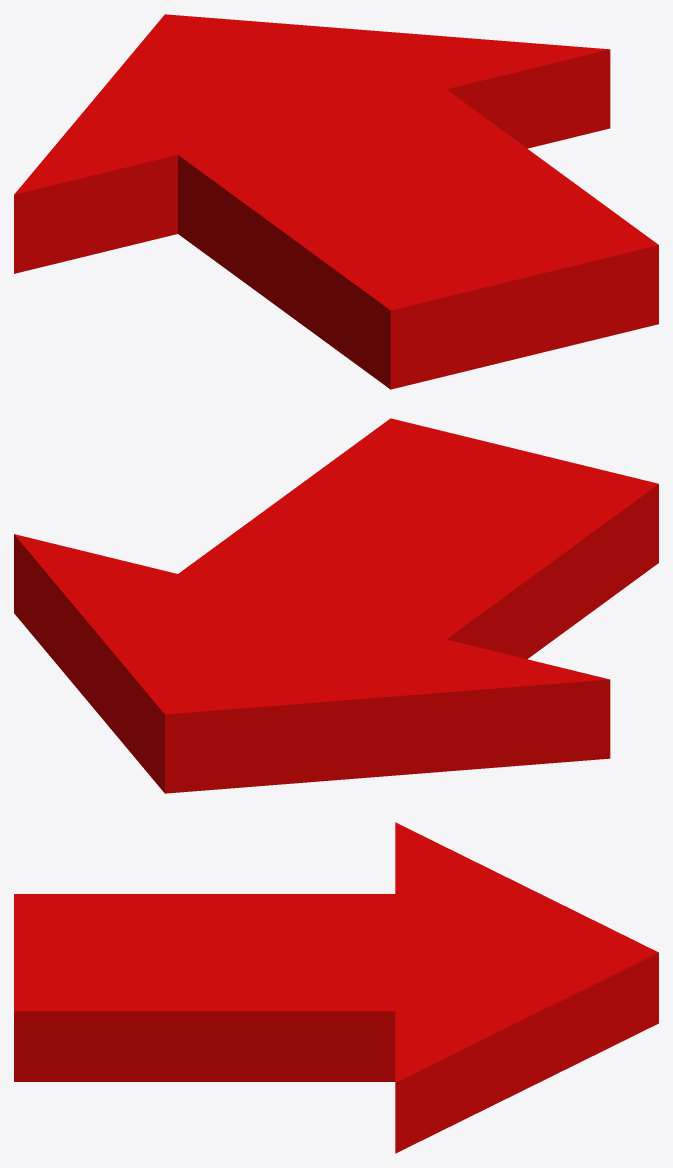
The model's file is seta.fbx.
The picture shows the model from 3 angles, top to bottom: view 1: azimuth 30°, elevation 25°; view 2: azimuth 150°, elevation 25°; view 3: azimuth 270°, elevation 25°; orthographic projection. The views are drawn at different scales.
Parts seen in each view (by area): view 1: seta; view 2: seta; view 3: seta.
Boxes of the visible parts, x1=… form: seta: x1=14, y1=14, x2=658, y2=389; seta: x1=14, y1=418, x2=658, y2=793; seta: x1=14, y1=822, x2=658, y2=1153.
Size of the model in its own units: 315 by 39.99 by 330.
